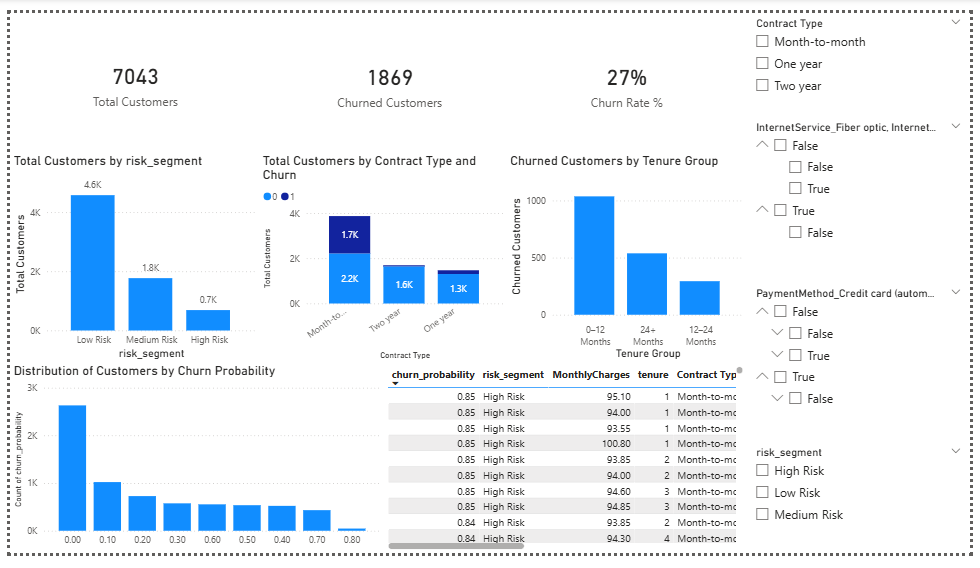

The page's visual inventory and layout, read from the dashboard file:
{"tool":"powerbi","page":{"name":"Page 1","canvas":[1280,720],"ordinal":0},"visuals":[{"type":"card","fields":{"Values":["churn_risk_scored_customers.Total Customers"]},"box":[2,0,330,186],"z":0},{"type":"card","fields":{"Values":["churn_risk_scored_customers.Churned Customers"]},"box":[332,0,348,188],"z":1000},{"type":"card","fields":{"Values":["churn_risk_scored_customers.Churn Rate %"]},"box":[662,0,320,188],"z":2000},{"type":"clusteredColumnChart","fields":{"Category":["churn_risk_scored_customers.risk_segment"],"Y":["churn_risk_scored_customers.Total Customers"]},"box":[0,186,332,280],"z":3000},{"type":"columnChart","fields":{"Category":["churn_risk_scored_customers.Contract Type"],"Y":["churn_risk_scored_customers.Total Customers"],"Series":["churn_risk_scored_customers.Churn"]},"box":[332,186,330,280],"z":4000},{"type":"clusteredColumnChart","fields":{"Y":["churn_risk_scored_customers.Churned Customers"],"Category":["churn_risk_scored_customers.Tenure Group"]},"box":[662,186,320,280],"z":5000},{"type":"clusteredColumnChart","title":"Distribution of Customers by Churn Probability","fields":{"Category":["churn_risk_scored_customers.churn_probability (bins)"],"Y":["CountNonNull(churn_risk_scored_customers.churn_probability)"]},"box":[0,466,498,254],"z":6000},{"type":"tableEx","fields":{"Values":["churn_risk_scored_customers.churn_probability","churn_risk_scored_customers.risk_segment","churn_risk_scored_customers.MonthlyCharges","churn_risk_scored_customers.tenure","churn_risk_scored_customers.Contract Type","churn_risk_scored_customers.PaymentMethod_Credit card (automatic)","churn_risk_scored_customers.PaymentMethod_Electronic check","churn_risk_scored_customers.PaymentMethod_Mailed check"]},"box":[498,466,484,254],"z":7000},{"type":"slicer","fields":{"Values":["churn_risk_scored_customers.Contract Type"]},"box":[982,0,298,138],"z":8000},{"type":"slicer","fields":{"Values":["churn_risk_scored_customers.PaymentMethod_Credit card (automatic)","churn_risk_scored_customers.PaymentMethod_Electronic check","churn_risk_scored_customers.PaymentMethod_Mailed check"]},"box":[982,360,298,212],"z":9000},{"type":"slicer","fields":{"Values":["churn_risk_scored_customers.risk_segment"]},"box":[982,572,298,148],"z":10000},{"type":"slicer","fields":{"Values":["churn_risk_scored_customers.InternetService_Fiber optic","churn_risk_scored_customers.InternetService_No"]},"box":[982,138,298,222],"z":11000}]}

Visuals, with their boxes in screenshot pixels (x1, y1, x2, y2), scaled from the page's 1280x720 canvas onto the 980x568 screenshot:
card - churn_risk_scored_customers.Total Customers: rect(2, 0, 254, 147)
card - churn_risk_scored_customers.Churned Customers: rect(254, 0, 521, 148)
card - churn_risk_scored_customers.Churn Rate %: rect(507, 0, 752, 148)
clusteredColumnChart - churn_risk_scored_customers.risk_segment x churn_risk_scored_customers.Total Customers: rect(0, 147, 254, 368)
columnChart - churn_risk_scored_customers.Contract Type x churn_risk_scored_customers.Total Customers: rect(254, 147, 507, 368)
clusteredColumnChart - churn_risk_scored_customers.Churned Customers x churn_risk_scored_customers.Tenure Group: rect(507, 147, 752, 368)
"Distribution of Customers by Churn Probability" clusteredColumnChart: rect(0, 368, 381, 567)
tableEx - churn_risk_scored_customers.churn_probability x churn_risk_scored_customers.risk_segment: rect(381, 368, 752, 567)
slicer - churn_risk_scored_customers.Contract Type: rect(752, 0, 979, 109)
slicer - churn_risk_scored_customers.PaymentMethod_Credit card (automatic) x churn_risk_scored_customers.PaymentMethod_Electronic check: rect(752, 284, 979, 451)
slicer - churn_risk_scored_customers.risk_segment: rect(752, 451, 979, 567)
slicer - churn_risk_scored_customers.InternetService_Fiber optic x churn_risk_scored_customers.InternetService_No: rect(752, 109, 979, 284)
